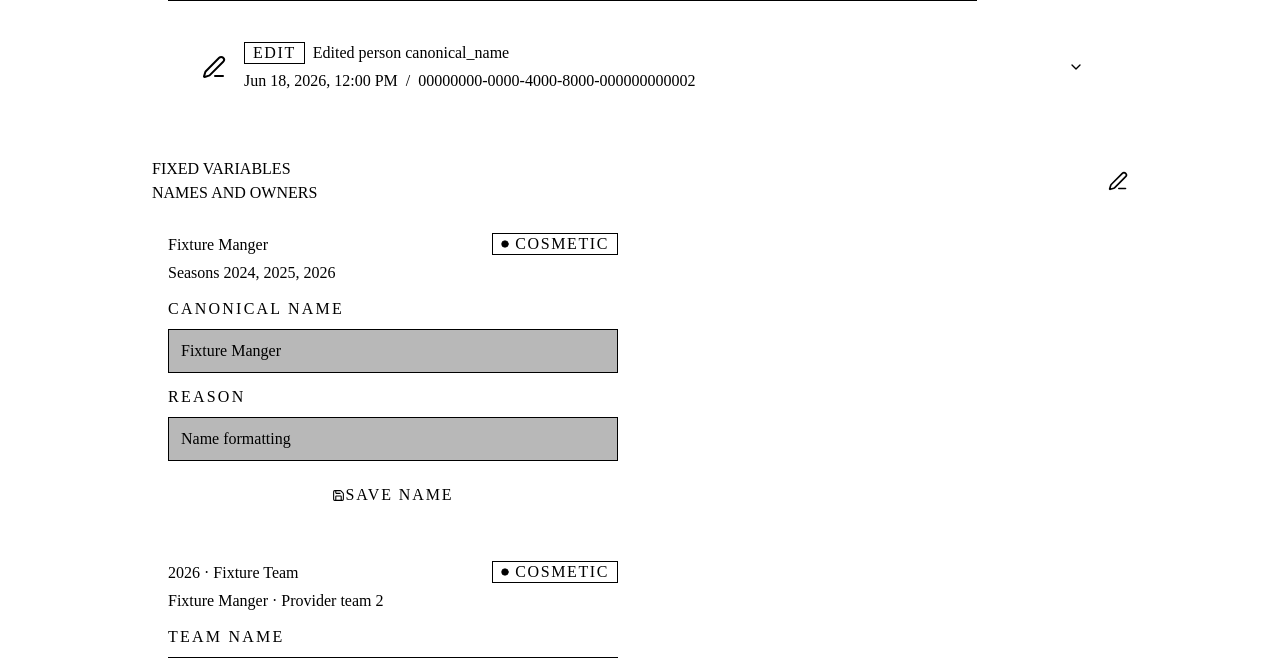
Scenario: a persisted steward edit is not reported as failed when the ledger read fails
(page scrolled)
Replace the text in the field showing "Fixture Manger" with "Fixture Manager" at (393, 351), box [168,329,618,373]
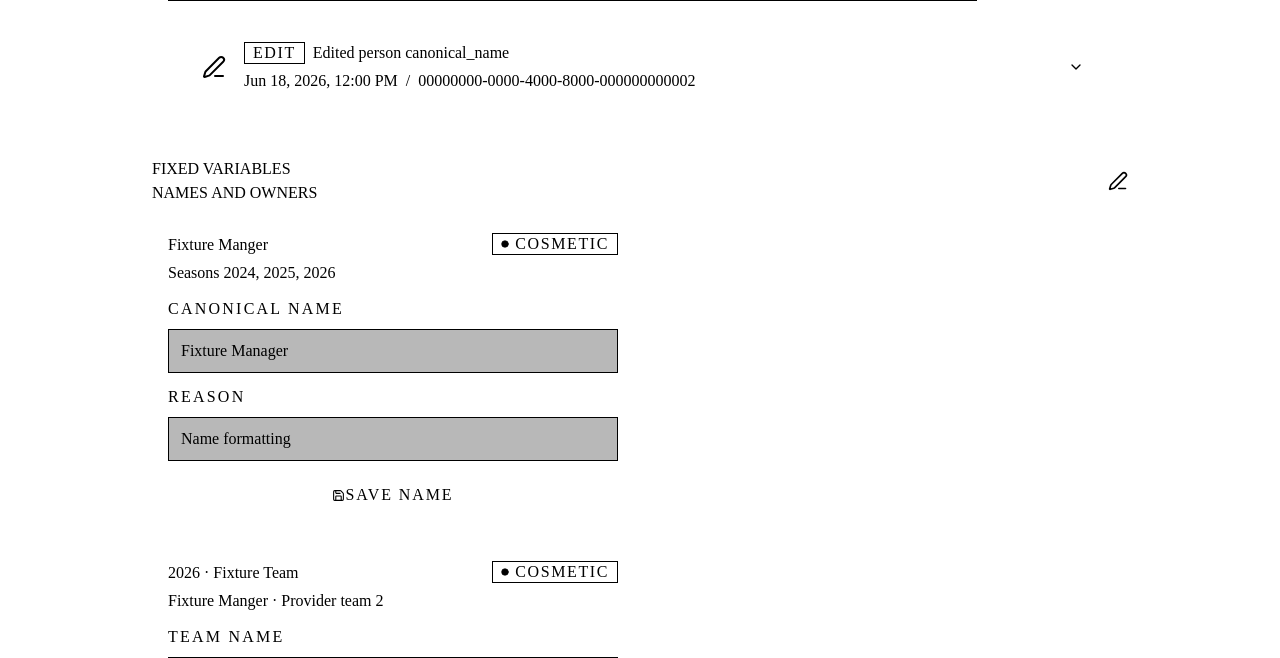
Click the button "Save name" at (393, 495), box [168,473,618,517]
(page scrolled)
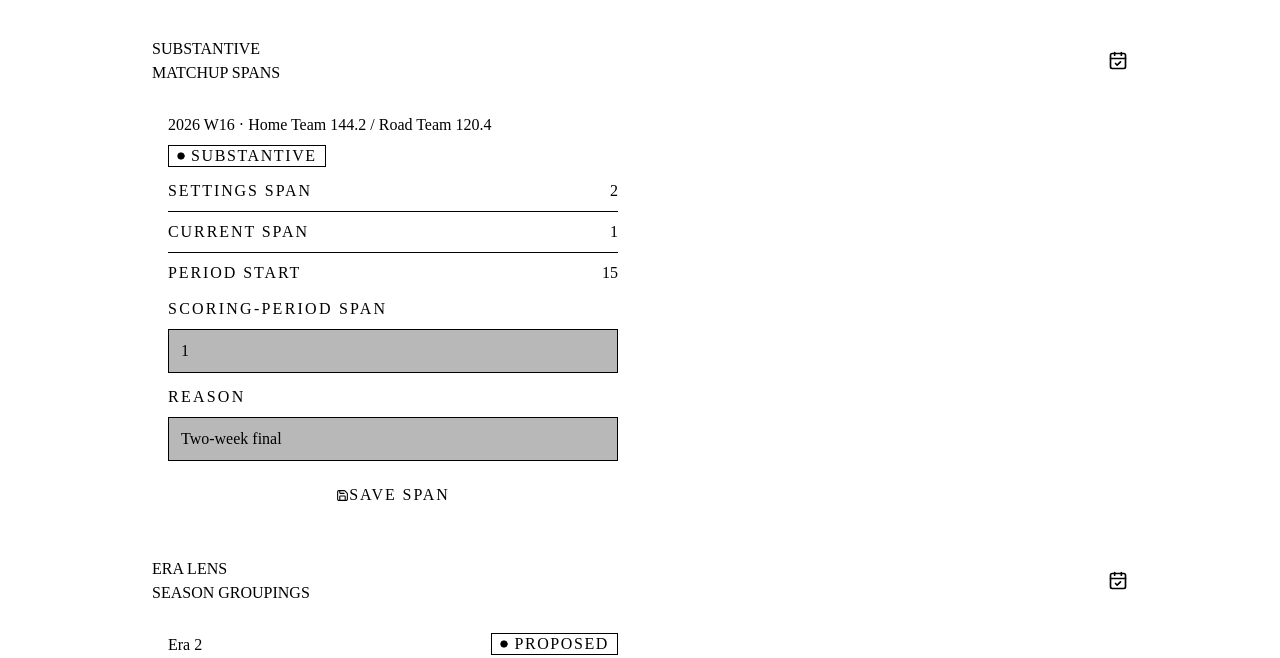
Replace the text in the number field showing "1" with "2" at (393, 351), box [168,329,618,373]
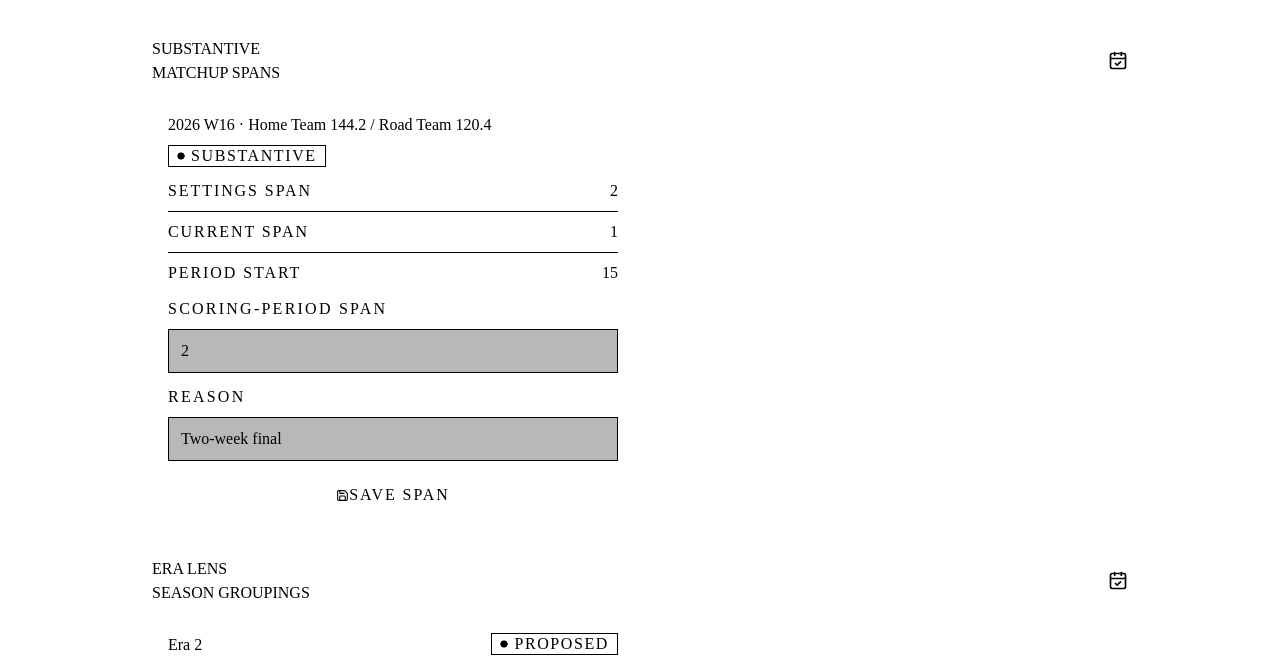
Click the button "Save span" at (393, 495), box [168,473,618,517]
(page scrolled)
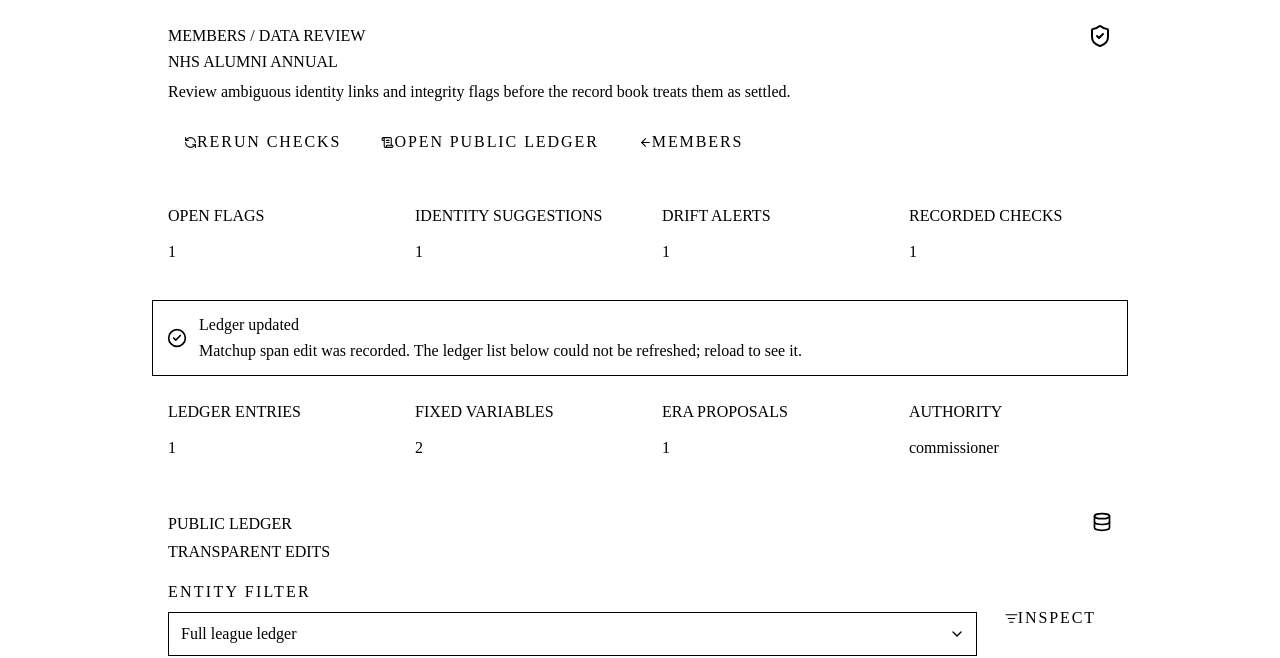
Now the text "Matchup span edit was recorded." is shown, box [199,342,802,359]
